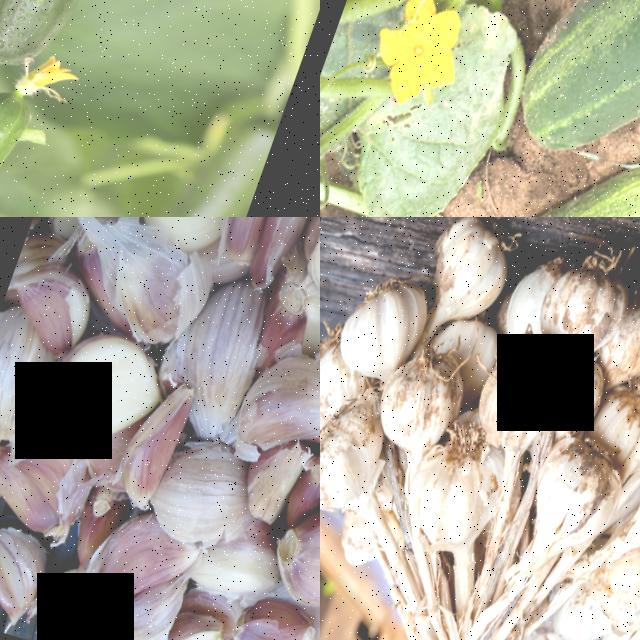cucumber: (505, 0, 640, 216), (0, 0, 210, 94), (465, 130, 640, 217)
garlic: (36, 318, 174, 473), (513, 436, 633, 583), (393, 431, 512, 568), (464, 332, 574, 474), (533, 241, 640, 377), (80, 514, 200, 635), (227, 335, 320, 489), (332, 267, 437, 393), (109, 379, 198, 521), (413, 217, 521, 331), (372, 348, 469, 466), (0, 252, 98, 366), (320, 396, 392, 533), (260, 490, 320, 629), (198, 217, 306, 277), (578, 538, 640, 640), (116, 217, 238, 260), (222, 592, 320, 640)
